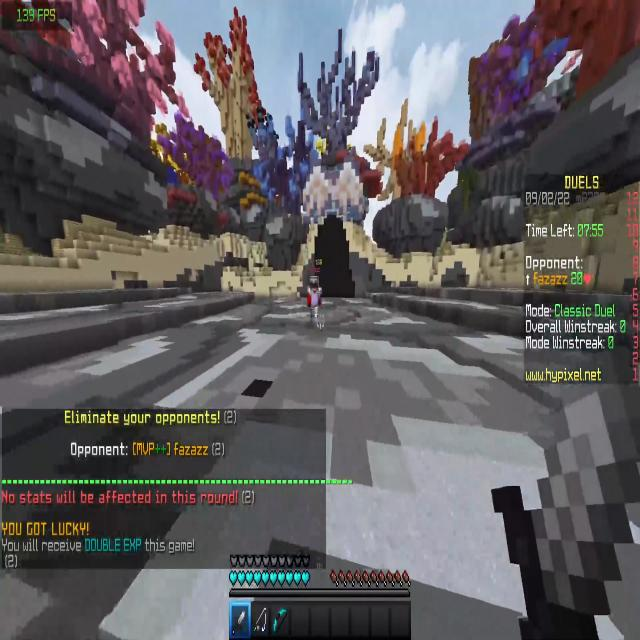Player: (302, 267, 325, 327)
